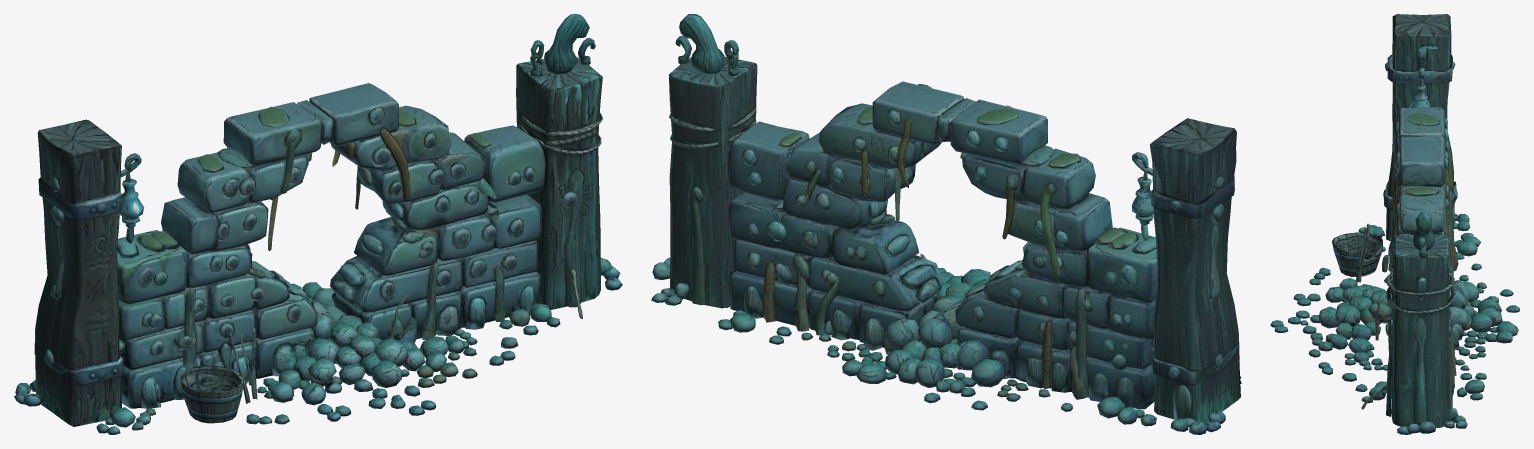
The model's file is cs_muro_brecha.glb.
3 views of the same model, side by side, from view 1: azimuth 30°, elevation 25°; view 2: azimuth 150°, elevation 25°; view 3: azimuth 270°, elevation 25° (orthographic). The views are drawn at different scales.
Visible parts, largest first — view 1: mesh_node; view 2: mesh_node; view 3: mesh_node.
Part boxes in pixels (x1=…): mesh_node: x1=14, y1=14, x2=622, y2=434; mesh_node: x1=651, y1=14, x2=1241, y2=434; mesh_node: x1=1270, y1=14, x2=1519, y2=434.
Bounding box in the file's own units: 1 × 0.4521 × 0.4814.
Materials: 1 (1 with a texture image).
